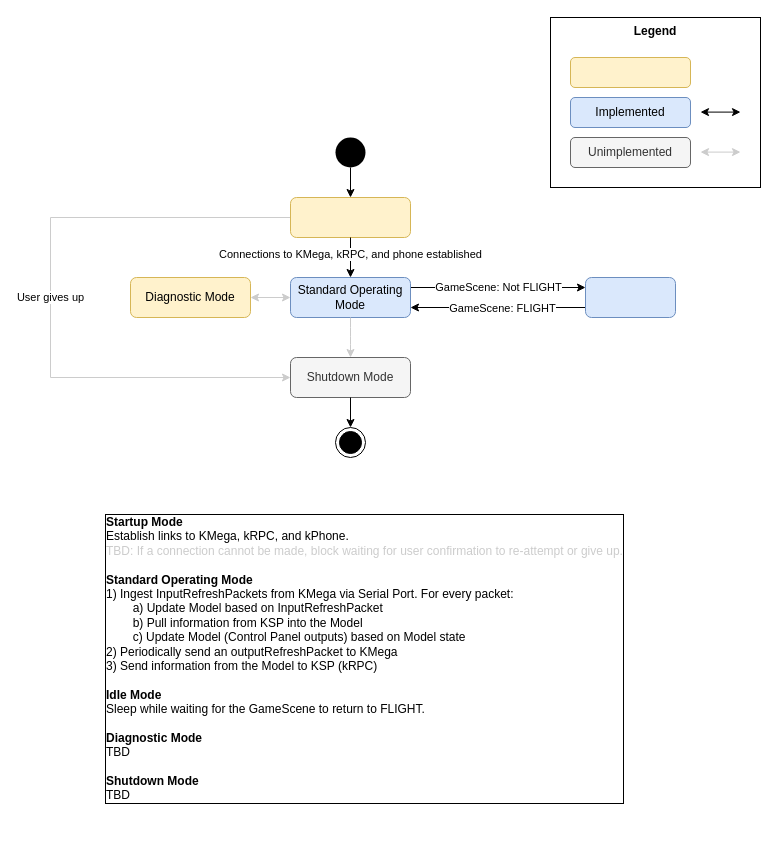
Image size: 778x843. Some labels were removed from this diagram. The shapes that lost their labels are listed below. From the top down, each one's centre as x and y in pixels, then its label:
At point (630, 72): "Implemented (more work required)".
At point (350, 217): "Startup Mode".
At point (630, 297): "Idle Mode".
